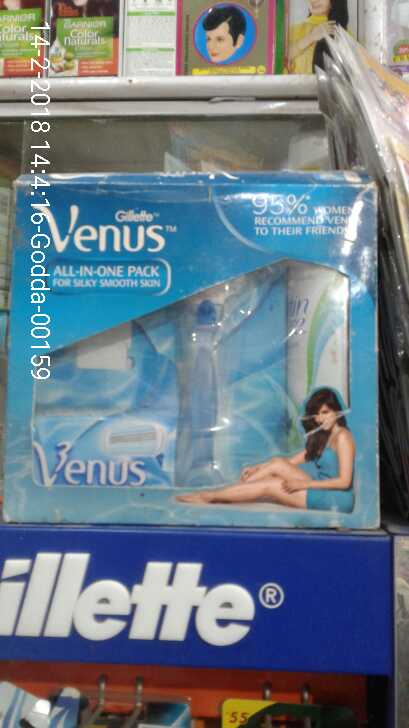venus: (6, 170, 386, 540)
